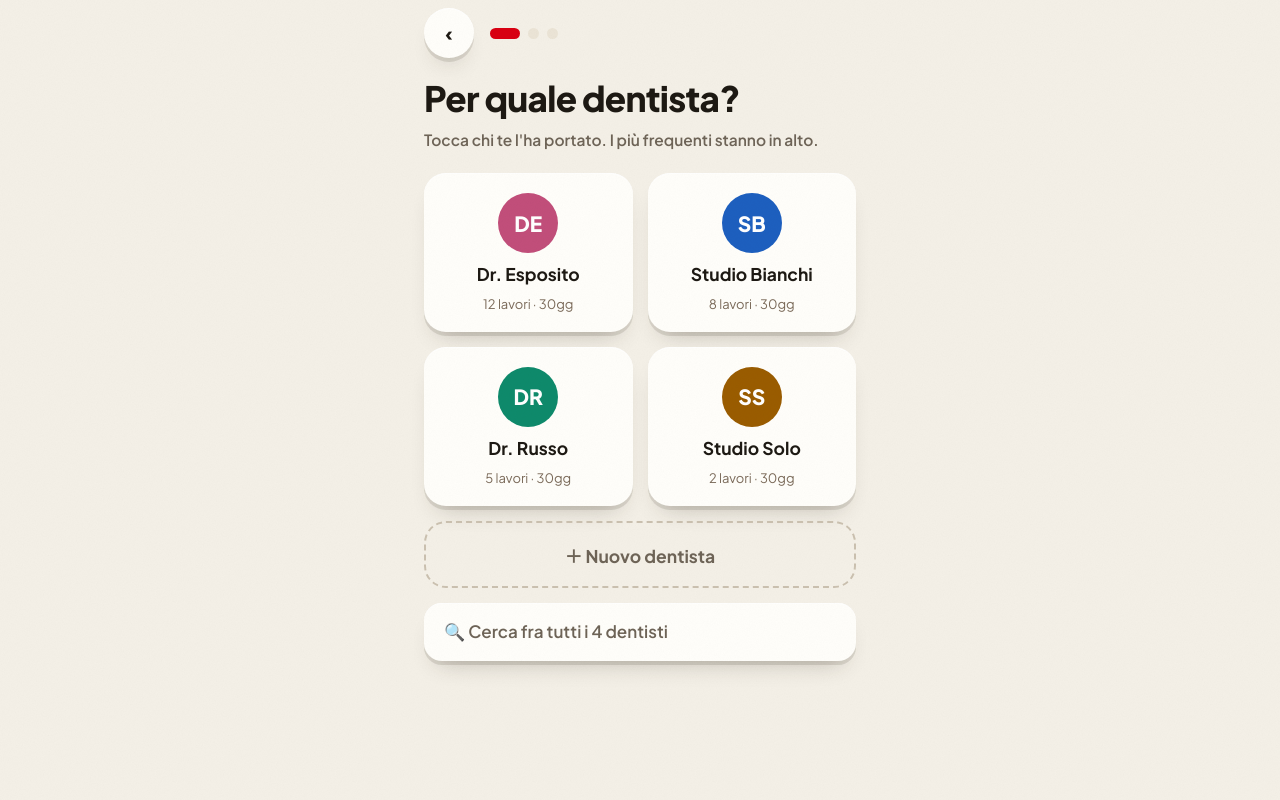
Scenario: WizardNuovoLavoro — mini-foglio «Chi ha prescritto?» (Task 10, P37/D211) › IMPORTANT 2: studio "di uno solo" → istituzione_sanitaria parte comunque nel POST (D206), richiedente_nome resta assente
Click the button "SS Studio Solo 2 lavori · 30gg".
click(752, 426)  # box 648,347 -> 856,506
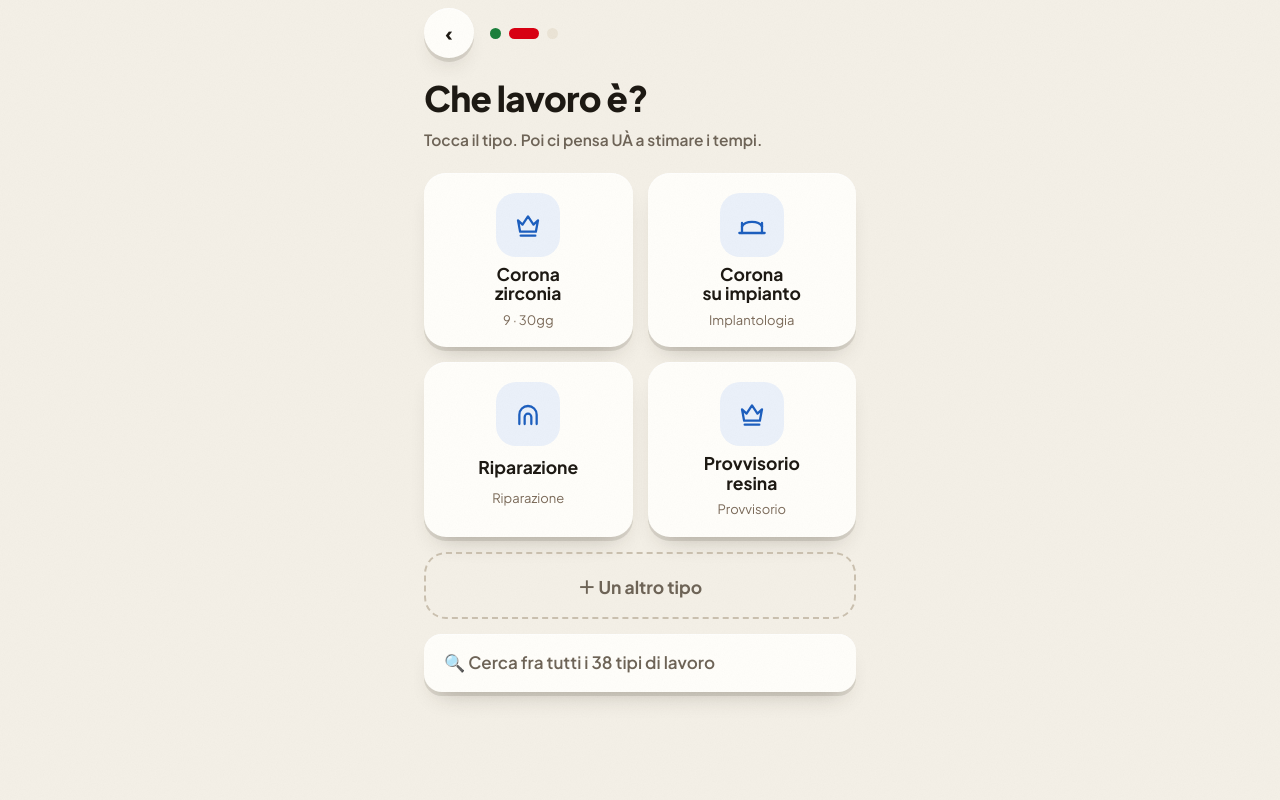
Now the heading "Che lavoro è?" is shown, box 424,76 -> 648,120
Click the button "Corona zirconia 9 · 30gg".
click(528, 260)  # box 424,173 -> 632,347
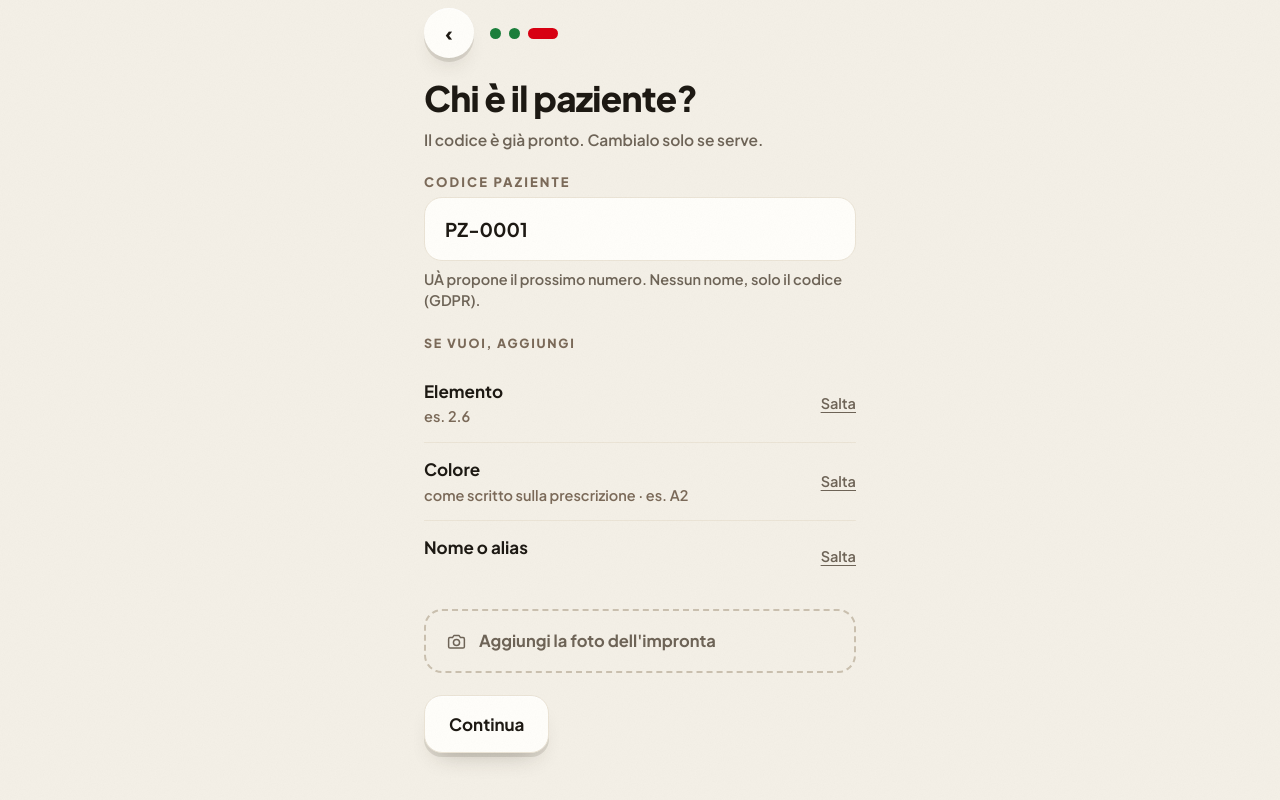
Click the button "Continua".
click(487, 724)  # box 424,695 -> 550,753
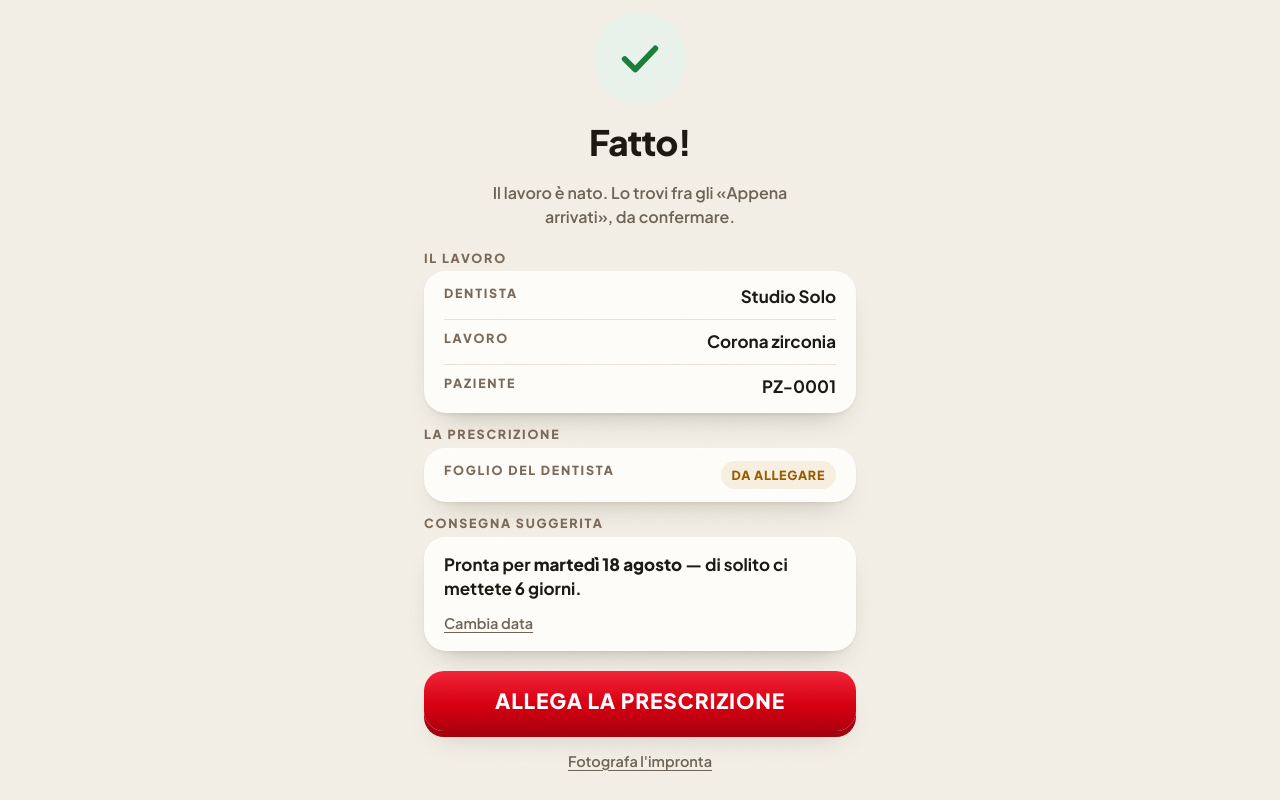
Now the heading "Fatto!" is shown, box 589,116 -> 691,168
Now the text "Studio Solo" is shown, box 741,284 -> 836,310
